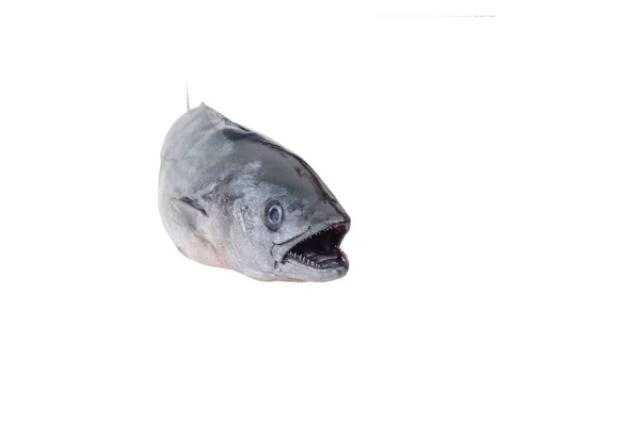Mulut: (266, 190, 376, 304)
